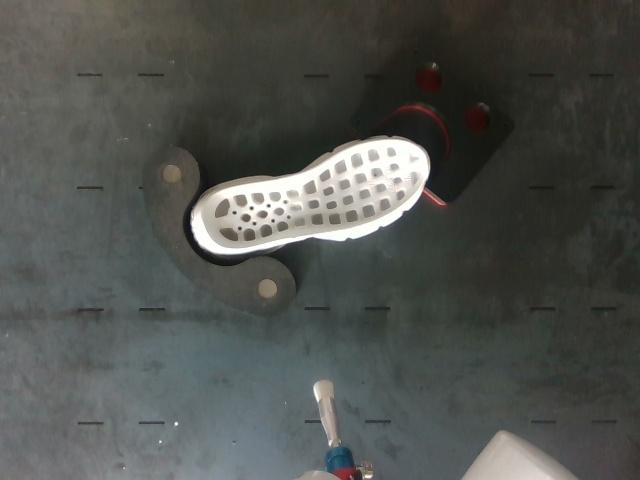shoes: (201, 140, 429, 250)
